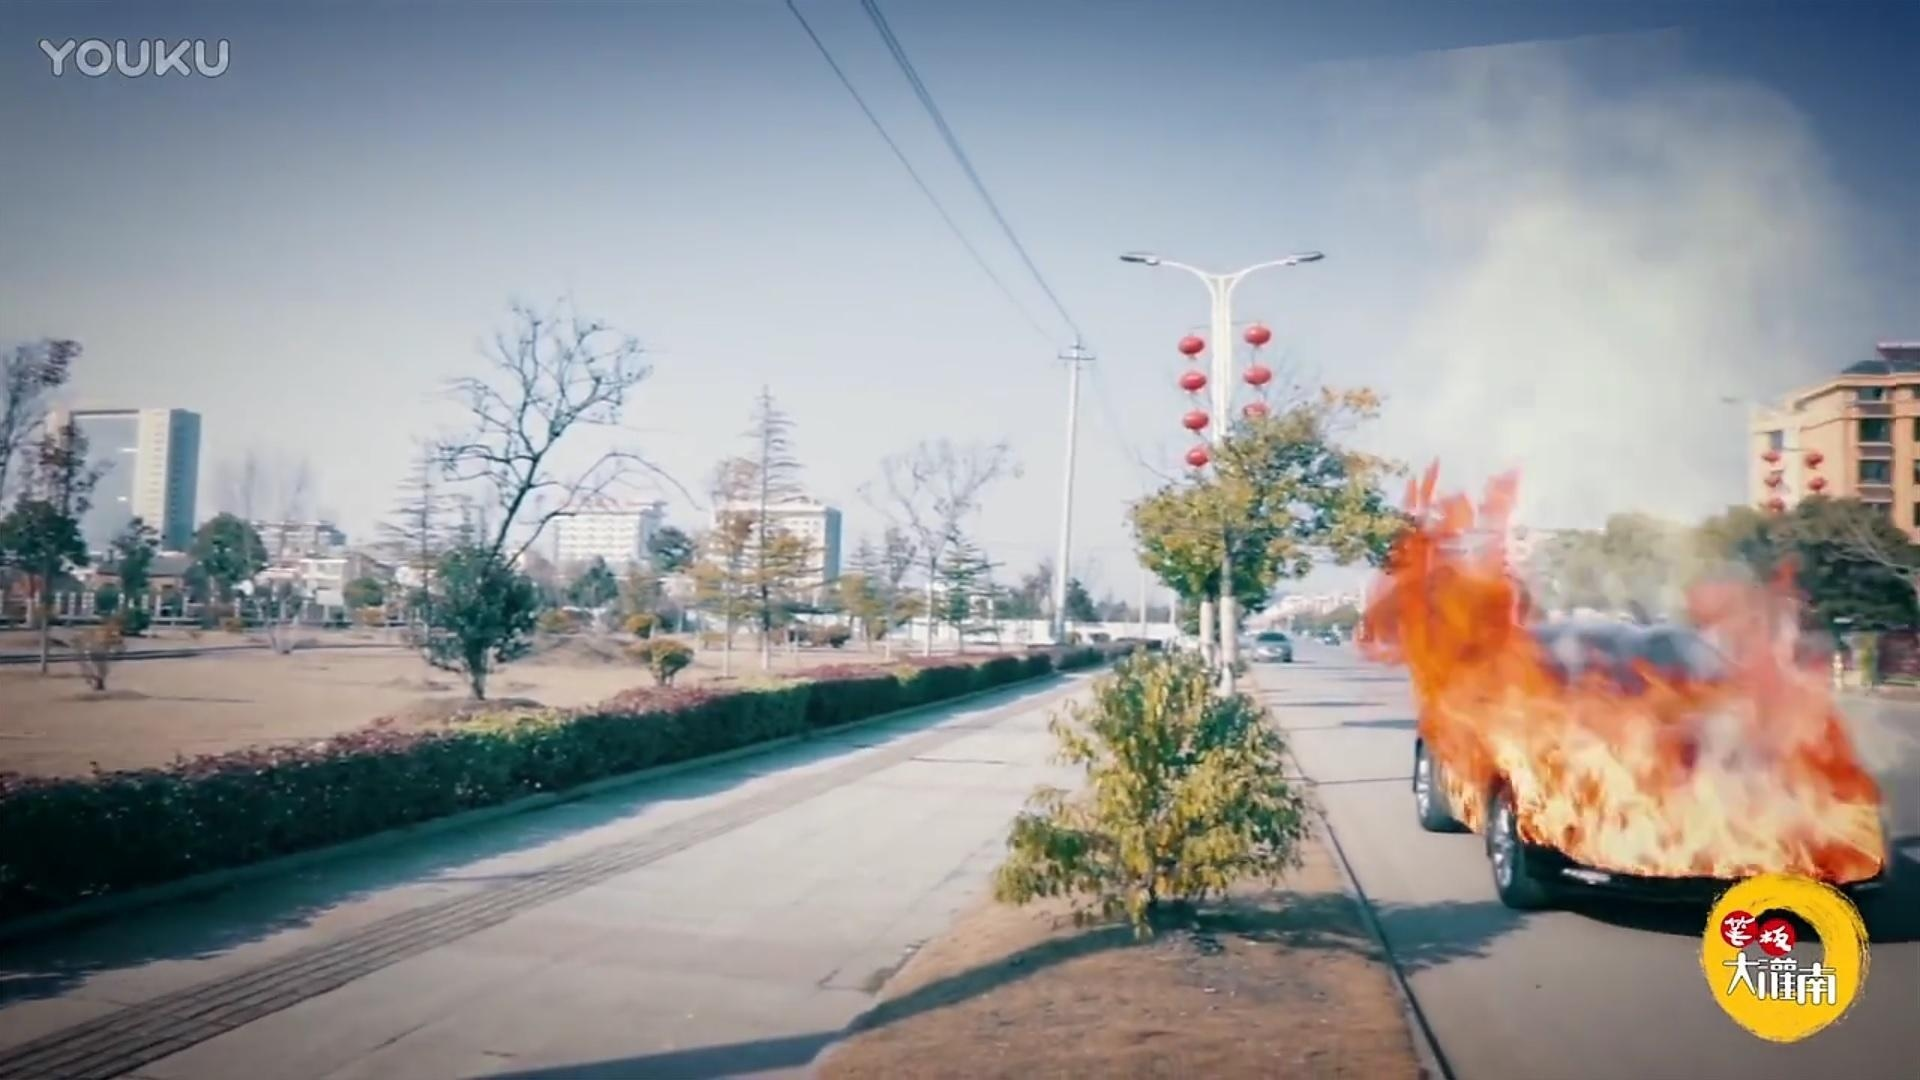fire: (1362, 502, 1879, 874)
